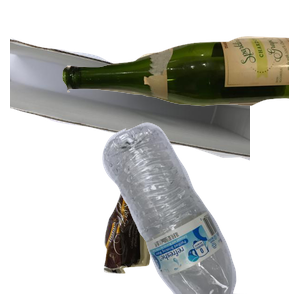cardboard: (10, 35, 250, 188)
glass: (60, 34, 300, 133)
plastic: (100, 120, 300, 300)
trash: (101, 157, 270, 300)
